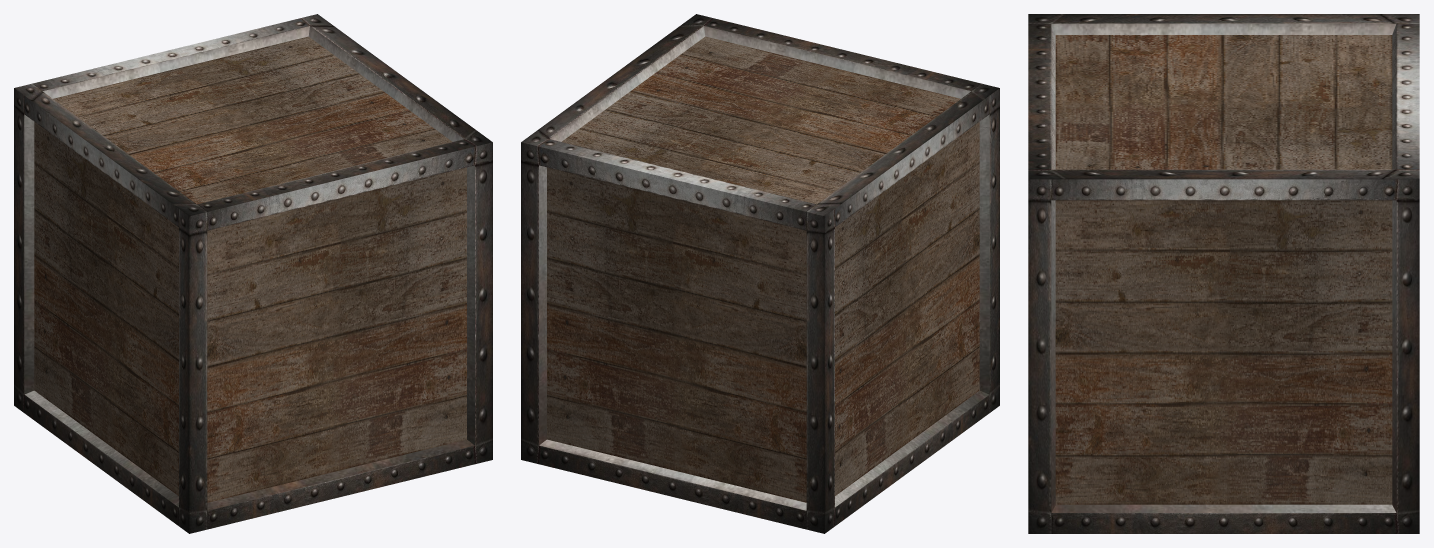
Rendered from crate1.fbx.
3 views of the same model, side by side, from view 1: azimuth 30°, elevation 25°; view 2: azimuth 150°, elevation 25°; view 3: azimuth 270°, elevation 25° (orthographic). The views are drawn at different scales.
Visible parts, largest first — view 1: Crate1_LOD0; view 2: Crate1_LOD0; view 3: Crate1_LOD0.
Part boxes in pixels (x1,y1,x2,y2): Crate1_LOD0: (14,14,492,533); Crate1_LOD0: (521,14,999,533); Crate1_LOD0: (1028,14,1419,533).
Size of what is drawn, in the model's own units: 200 by 200 by 200.
Materials: 2 (2 with a texture image).
